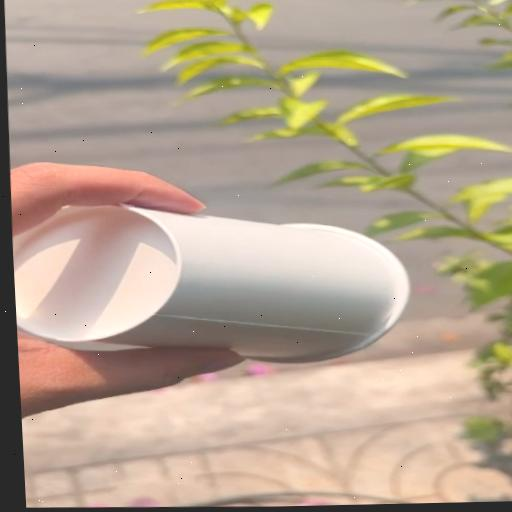Ly_giay: (13, 206, 408, 362)
